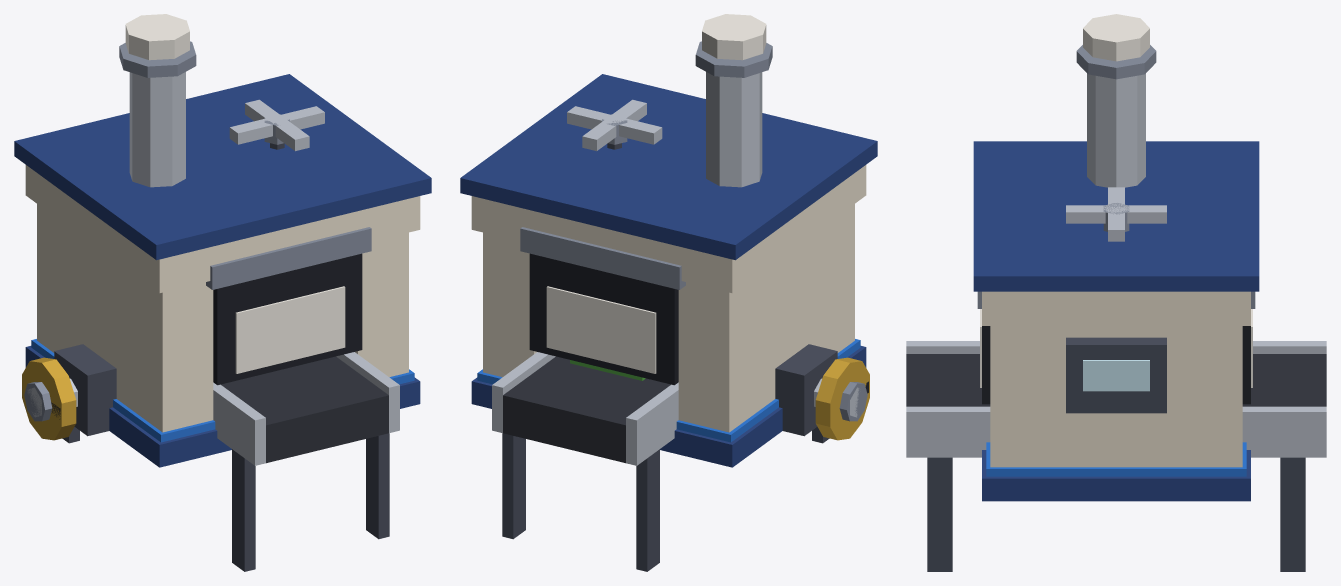
Rendered from finisher-left.glb.
3 renders of one model, left to right at view 1: azimuth 30°, elevation 25°; view 2: azimuth 150°, elevation 25°; view 3: azimuth 270°, elevation 25°, orthographic.
Visible parts, largest first — view 1: finisher-left, spin-x, spin-up; view 2: finisher-left, spin-x, spin-up; view 3: finisher-left, spin-up.
Part boxes in pixels (x1,y1,x2,y2): finisher-left: [14, 14, 431, 571]; spin-x: [22, 357, 76, 440]; spin-up: [229, 99, 324, 151]; finisher-left: [460, 14, 877, 571]; spin-x: [815, 357, 869, 440]; spin-up: [567, 99, 662, 151]; finisher-left: [906, 14, 1326, 571]; spin-up: [1066, 187, 1166, 241].
Bounding box in the file's own units: 0.904 × 1.25 × 1.
Materials: 3 (3 with a texture image).
